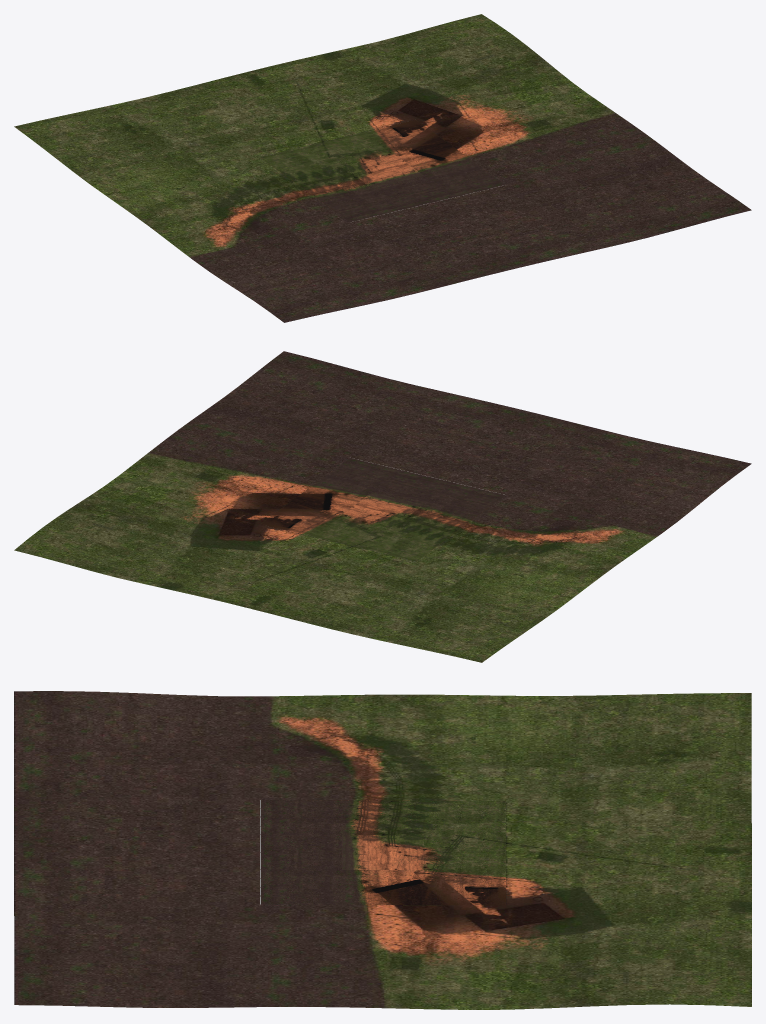
Rendered from Solo.glb.
3 renders of one model, top to bottom at view 1: azimuth 30°, elevation 25°; view 2: azimuth 150°, elevation 25°; view 3: azimuth 270°, elevation 25°, orthographic. The views are drawn at different scales.
Parts seen in each view (by area): view 1: Solo; view 2: Solo; view 3: Solo.
Part boxes in pixels (x1,y1,x2,y2): Solo: (14,14,751,322); Solo: (14,351,751,662); Solo: (14,691,751,1009).
Bounding box in the file's own units: 126 × 1.4 × 126.
1 material, 1 textured.
